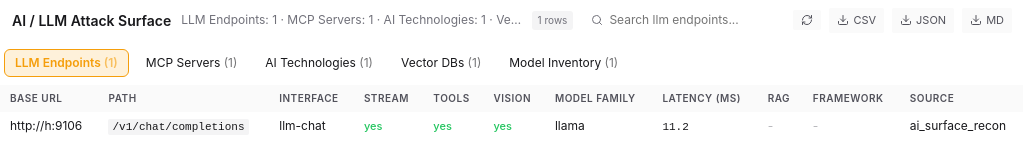
Scenario: AiSurfaceTable › switching to MCP Servers sheet shows MCP data
The image size is (1023, 160).
Expected: the text "/v1/chat/completions" is shown, [108,118,248,134]
What coordinates should you click on to do the following:
click the button "MCP Servers (1)"
I would click on:
 (192, 62)
Its box is [135,48,248,76].
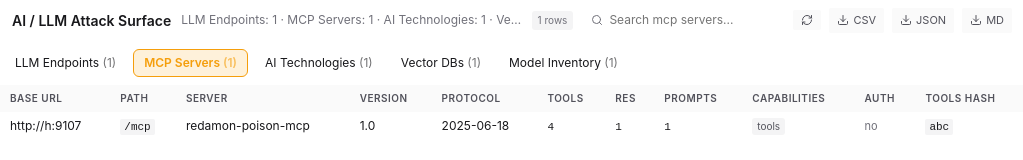
Expected: the text "redamon-poison-mcp" is shown, [186,116,310,134]
Expected: the text "2025-06-18" is shown, [442,116,509,134]
